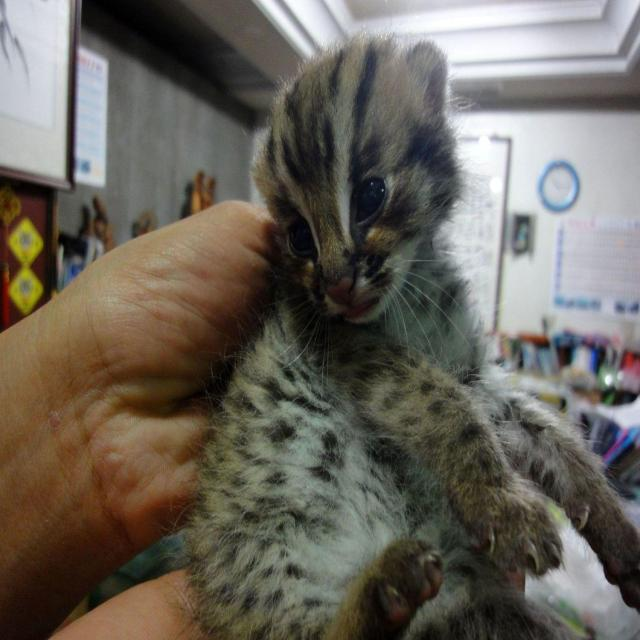leopard: (256, 63, 504, 550)
